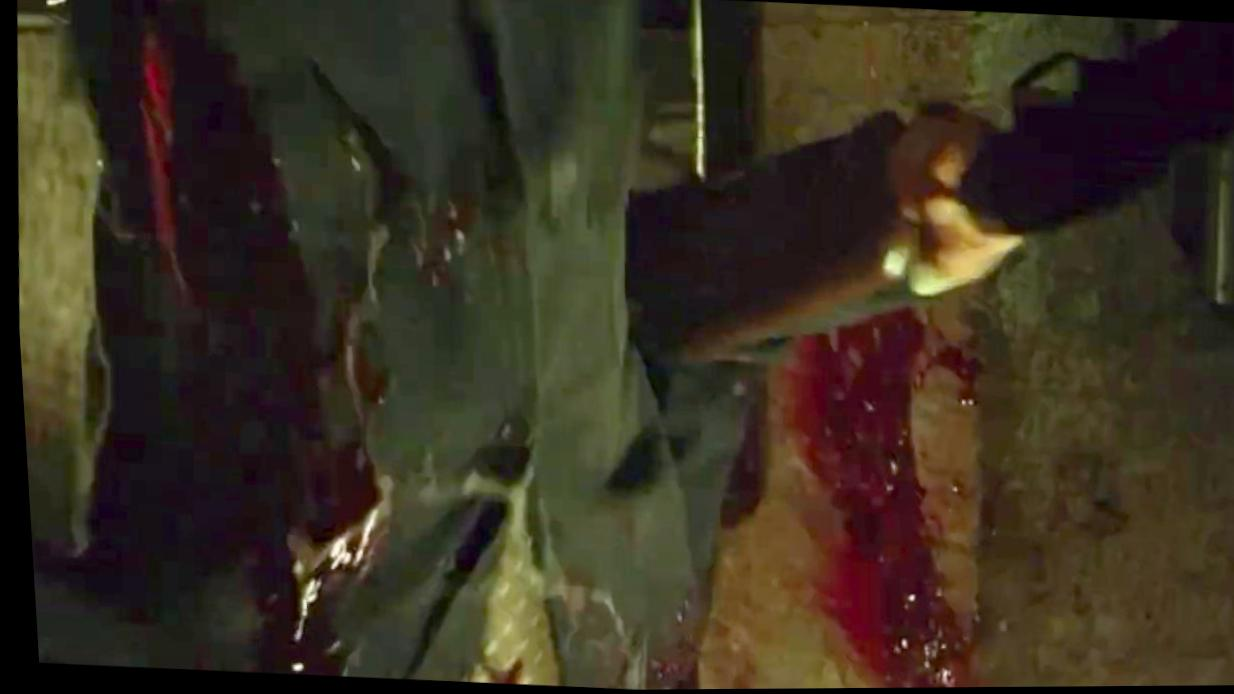Fire: (133, 3, 403, 451), (784, 312, 961, 689), (906, 316, 976, 631)
